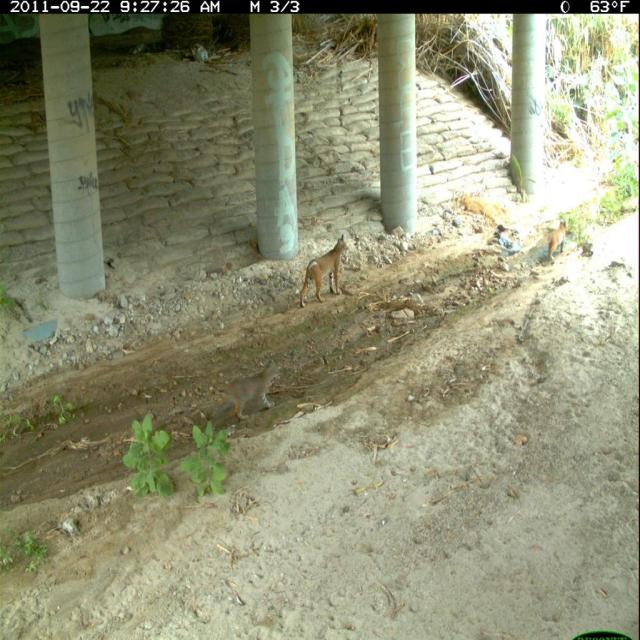bobcat: (213, 355, 287, 426), (297, 231, 351, 314), (543, 214, 571, 267)
